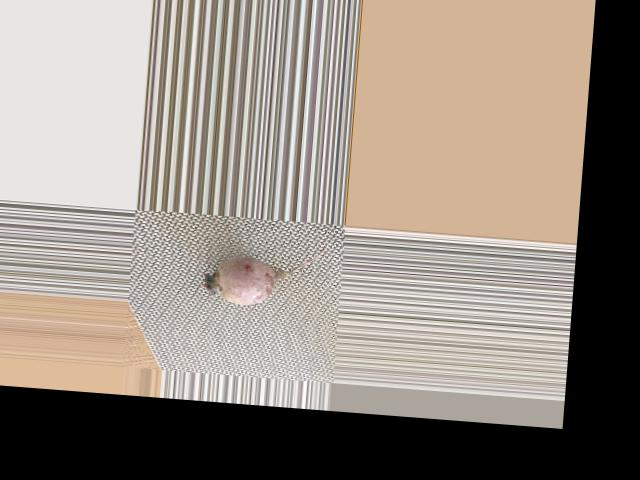beet: (199, 233, 328, 310)
